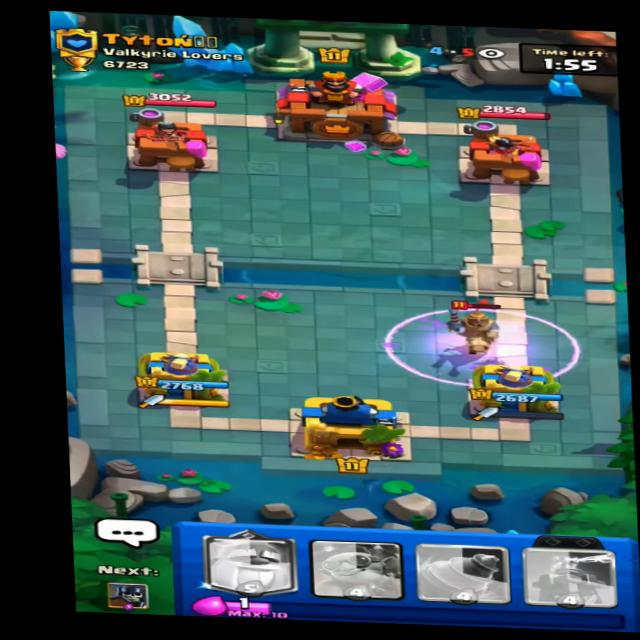prince: (442, 302, 504, 355)
